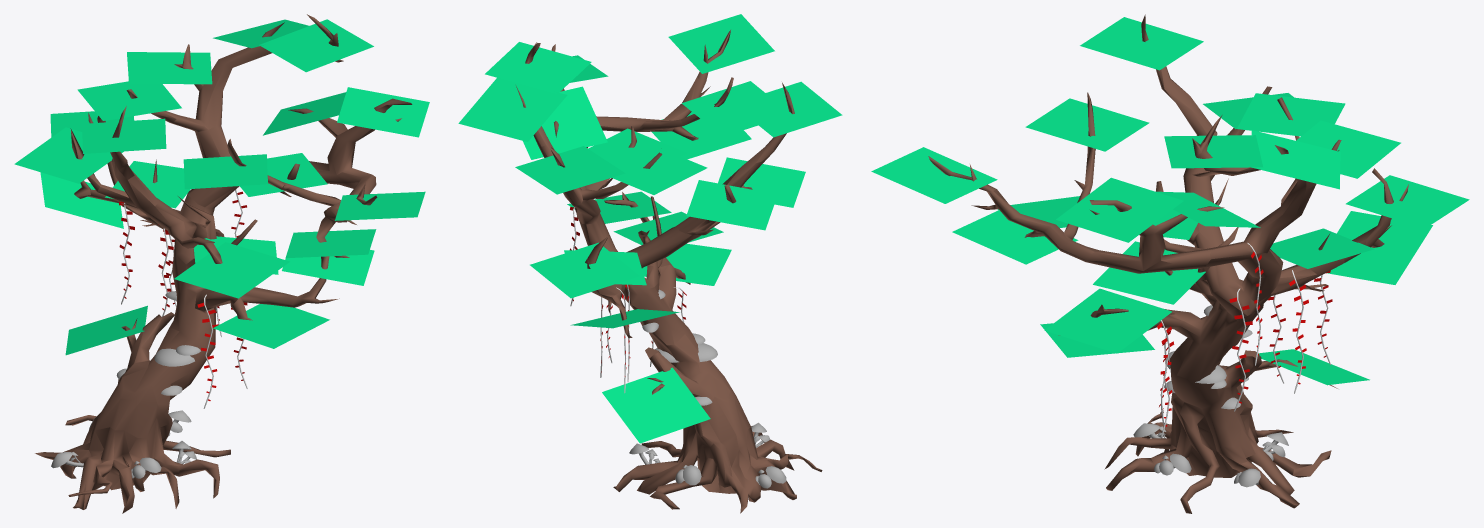
Rendered from forpainter.fbx.
The picture shows the model from 3 angles, left to right: view 1: azimuth 30°, elevation 25°; view 2: azimuth 150°, elevation 25°; view 3: azimuth 270°, elevation 25°; orthographic projection. The views are drawn at different scales.
Parts seen in each view (by area): view 1: polySurface110, polySurface49, pSphere10, polySurface114; view 2: polySurface110, polySurface49, pSphere10, polySurface114; view 3: polySurface110, polySurface49, polySurface114, pSphere10.
Part boxes in pixels (left/top/right/bottom): polySurface110: left=14, top=19, right=429, bottom=355; polySurface49: left=35, top=14, right=412, bottom=513; pSphere10: left=51, top=291, right=200, bottom=478; polySurface114: left=119, top=189, right=247, bottom=408; polySurface110: left=458, top=14, right=842, bottom=443; polySurface49: left=516, top=30, right=822, bottom=513; pSphere10: left=629, top=289, right=786, bottom=488; polySurface114: left=570, top=207, right=686, bottom=393; polySurface110: left=871, top=17, right=1469, bottom=385; polySurface49: left=928, top=14, right=1408, bottom=513; polySurface114: left=1157, top=243, right=1332, bottom=436; pSphere10: left=1133, top=305, right=1288, bottom=487.
Bounding box in the file's own units: 367 × 427 × 496.
